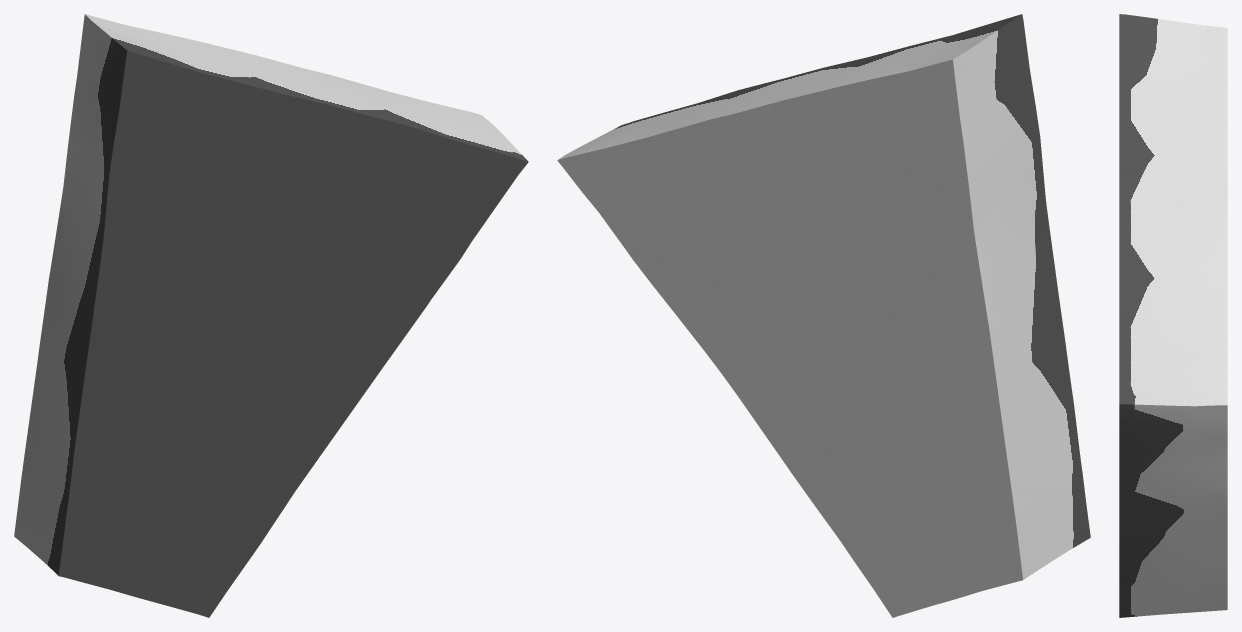
Rendered from Mirror_Eclat_46.fbx.
The picture shows the model from 3 angles, left to right: view 1: azimuth 30°, elevation 25°; view 2: azimuth 150°, elevation 25°; view 3: azimuth 270°, elevation 25°; orthographic projection. The views are drawn at different scales.
Visible parts, largest first — view 1: Mirror_Eclat_46; view 2: Mirror_Eclat_46; view 3: Mirror_Eclat_46.
Part boxes in pixels (<box>): Mirror_Eclat_46: <box>14,14,528,617</box>; Mirror_Eclat_46: <box>557,14,1090,617</box>; Mirror_Eclat_46: <box>1119,14,1227,617</box>.
Size of the model in its own units: 0.2591 by 0.3034 by 0.0526.
1 material, 1 textured.
